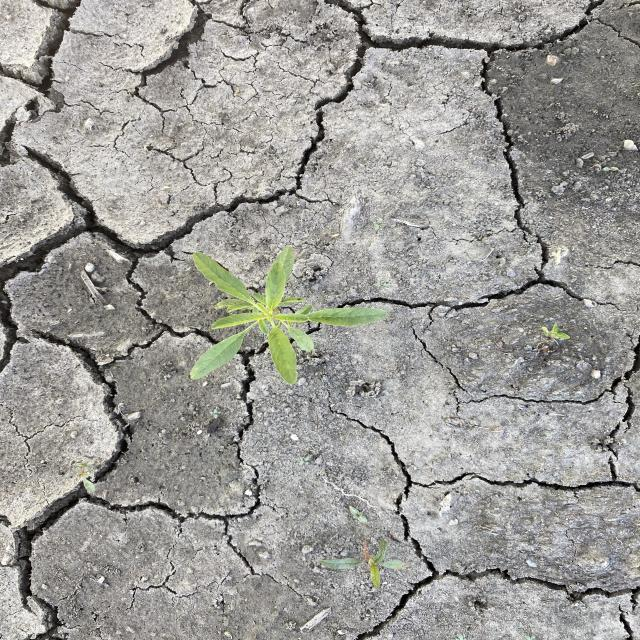Waterhemp: (187, 242, 389, 386), (319, 535, 410, 590)
